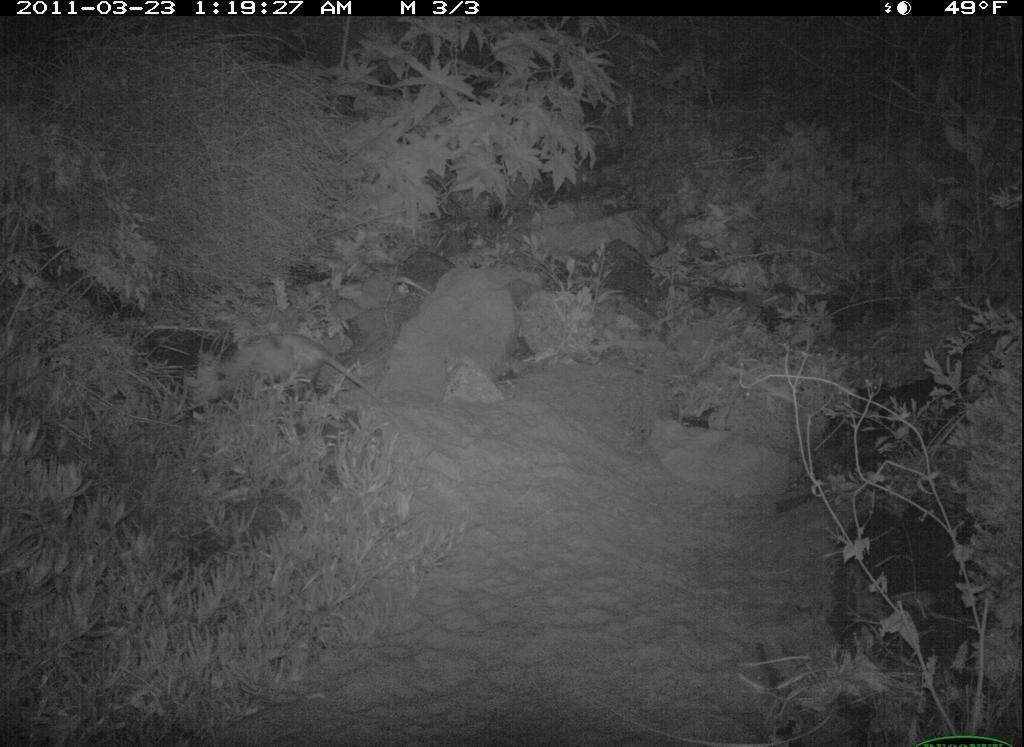opossum: (180, 326, 393, 422)
